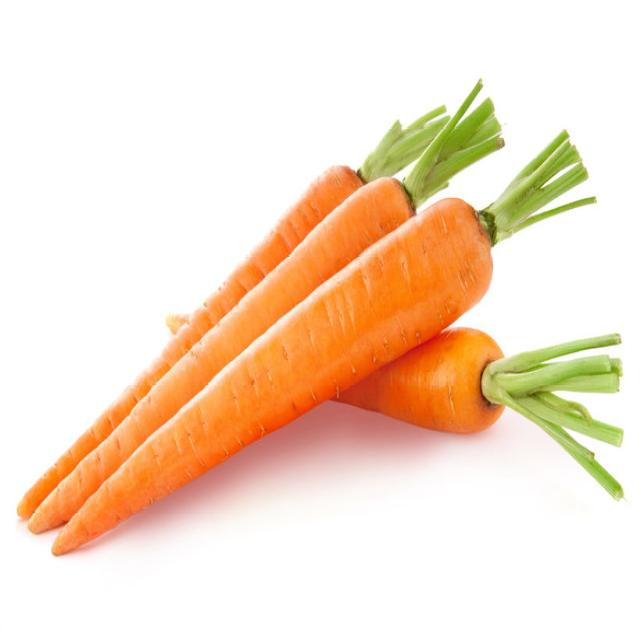Fresh_Carrot: (57, 139, 596, 566), (17, 88, 502, 525)
